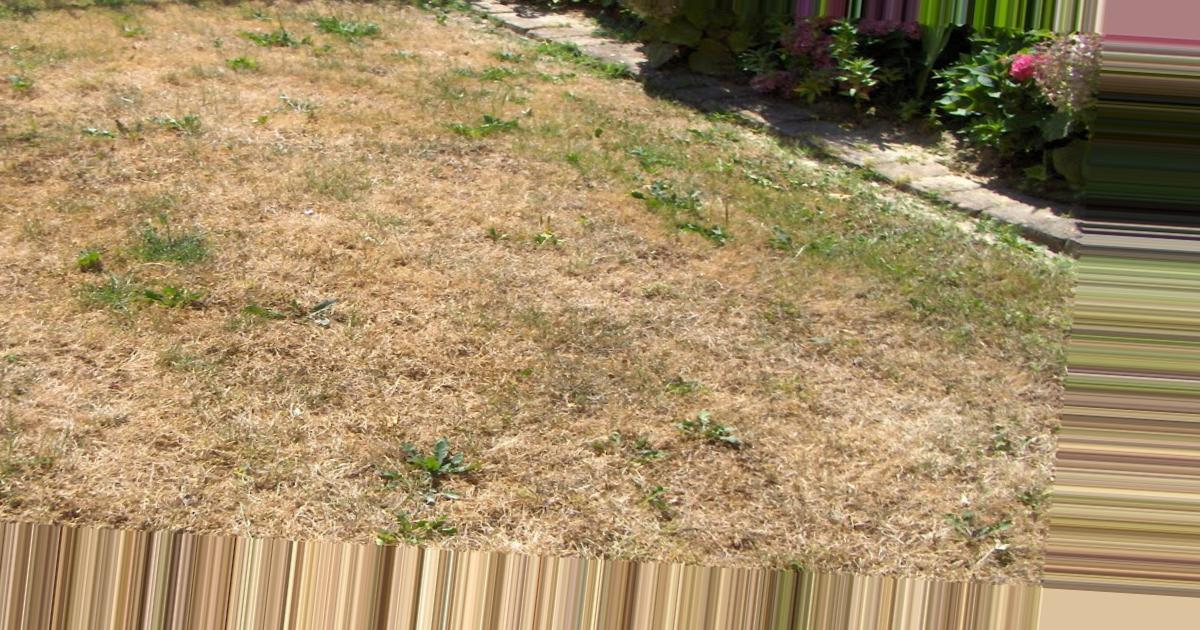patch: (127, 65, 553, 522), (585, 196, 921, 557)
